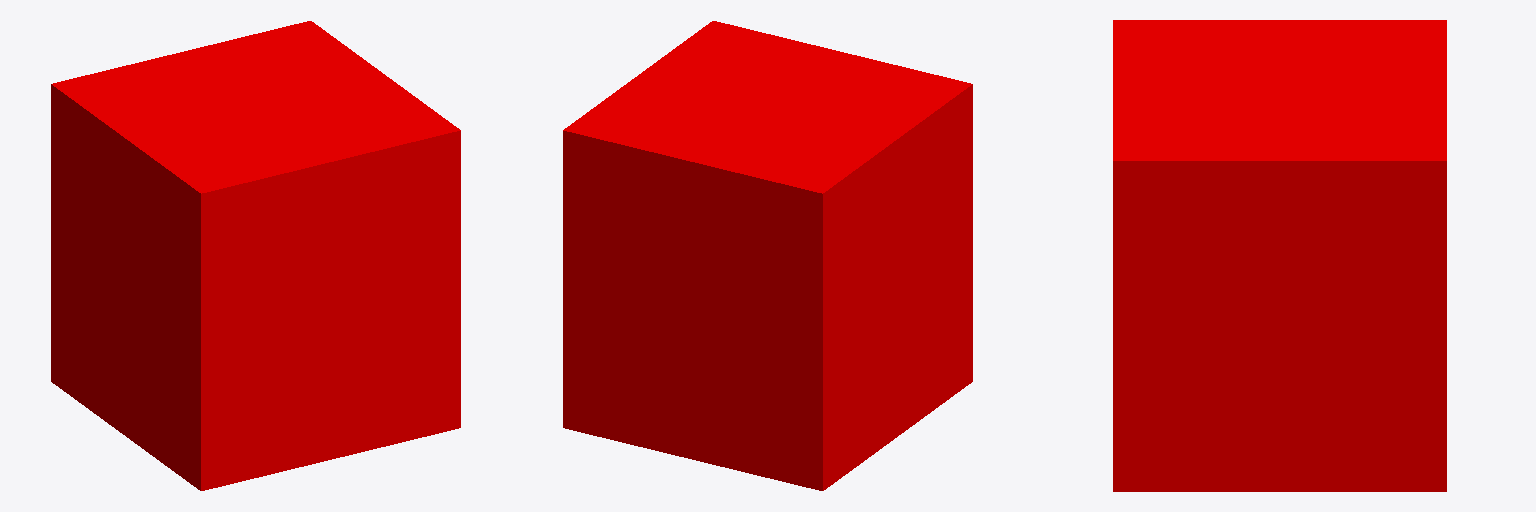
The robot description file, URDF, robot "red_cube":
<?xml version="1.0" ?>
<robot name="red_cube">

  <link name="cube">
    <visual>
      <geometry>
        <box size="0.32 0.32 0.35"/>  <!-- Dimensions of the cube -->
      </geometry>
      <material name="red_material">
        <color rgba="1 0 0 1"/>  <!-- Red color with full opacity -->
      </material>
    </visual>

    <collision>
      <geometry>
        <box size="0.32 0.32 0.35"/>  <!-- Dimensions for collision -->
      </geometry>
    </collision>

    <inertial>
      <mass value="4.0"/>
      <inertia ixx="0.01" ixy="0.0" ixz="0.0" iyy="0.01" iyz="0.0" izz="0.01"/>
    </inertial>
  </link>

  <link name="world"/>
  <joint name="world_to_cube" type="fixed">
    <parent link="world"/>
    <child link="cube"/>
  </joint>

</robot>

--- Render facts (derived) ---
Views: 3 orthographic renders of the robot side by side, from view 1: azimuth 30°, elevation 25°; view 2: azimuth 150°, elevation 25°; view 3: azimuth 270°, elevation 25°.
Robot: red_cube — 2 links, 1 joints (1 fixed); root link world; default pose: all joints at 0.
Visible links, largest first — view 1: cube; view 2: cube; view 3: cube.
Link boxes in pixels (x1=…): cube: x1=51, y1=21, x2=460, y2=490; cube: x1=563, y1=21, x2=972, y2=490; cube: x1=1113, y1=20, x2=1446, y2=491.
Bounding box of the posed robot: 0.32 × 0.32 × 0.35 m (x, y, z).
Geometry: primitives only (box / cylinder / sphere), no mesh files.
